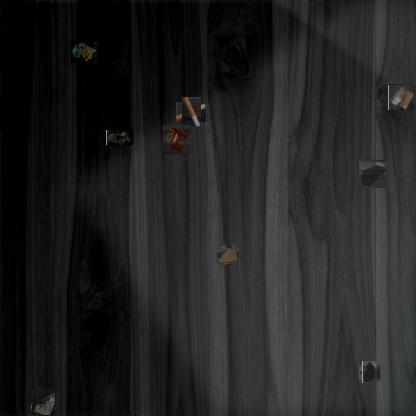dirty: (163, 125, 192, 154), (388, 84, 415, 110), (178, 99, 204, 125), (31, 390, 55, 416), (72, 41, 100, 63), (106, 130, 133, 146), (219, 246, 237, 265)
liquid: (358, 160, 386, 188), (361, 363, 379, 382)
